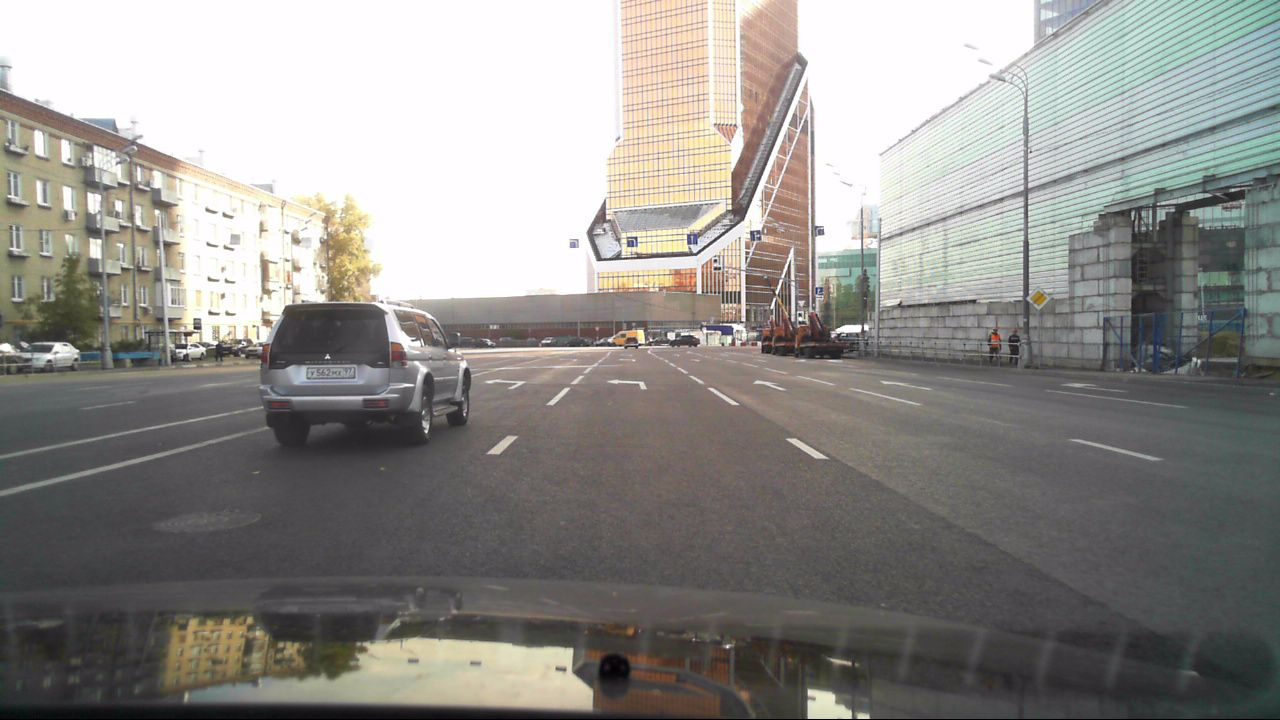main road: (1028, 284, 1052, 312)
